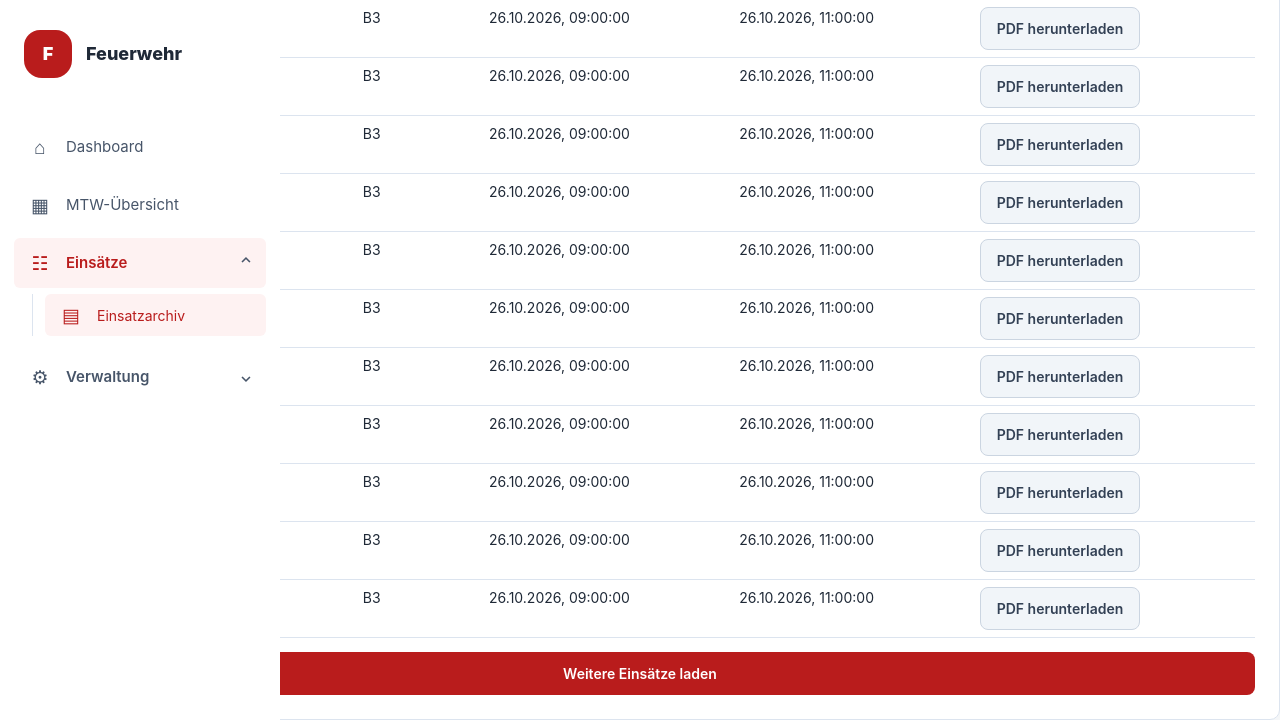
Scenario: loads further pages while keeping the incidents already shown
(page scrolled)
Click the button "Weitere Einsätze laden".
click(640, 673)  # box [25, 652, 1255, 694]
(page scrolled)
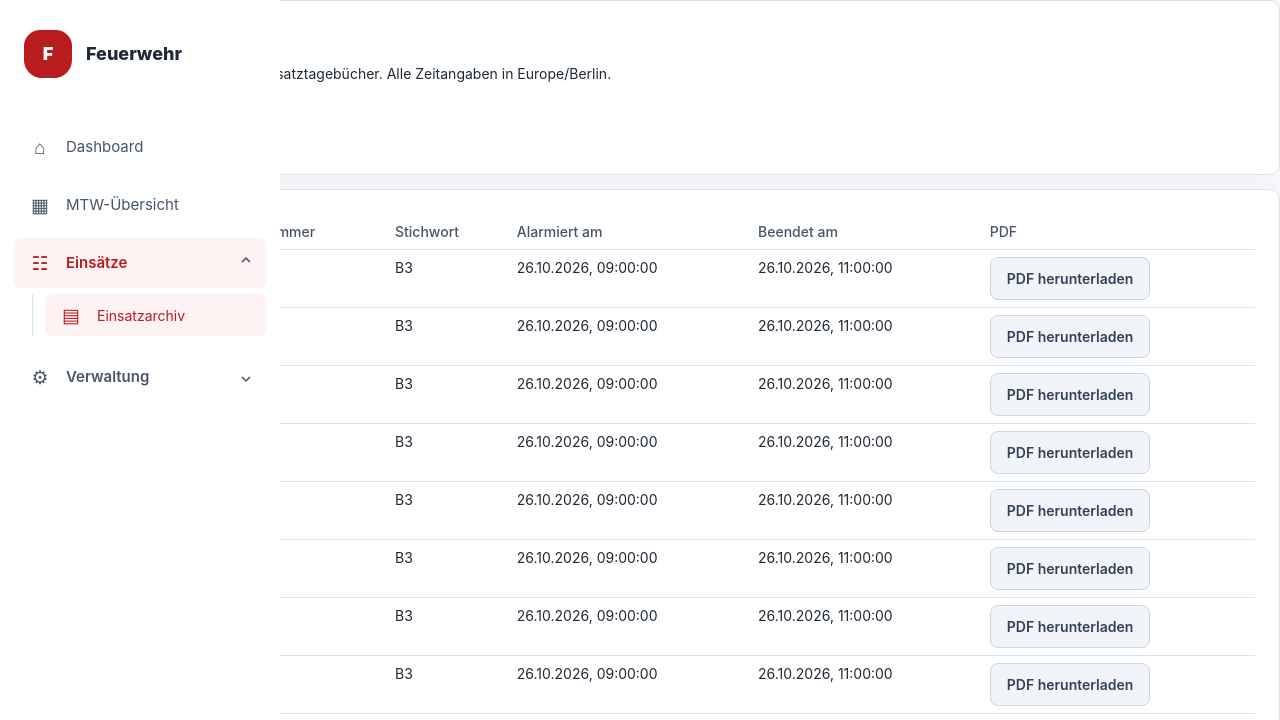
Check: the button "Einsatz 0" is shown, box [32, 256, 96, 292]
Check: the button "Weitere Einsätze laden" is gone
